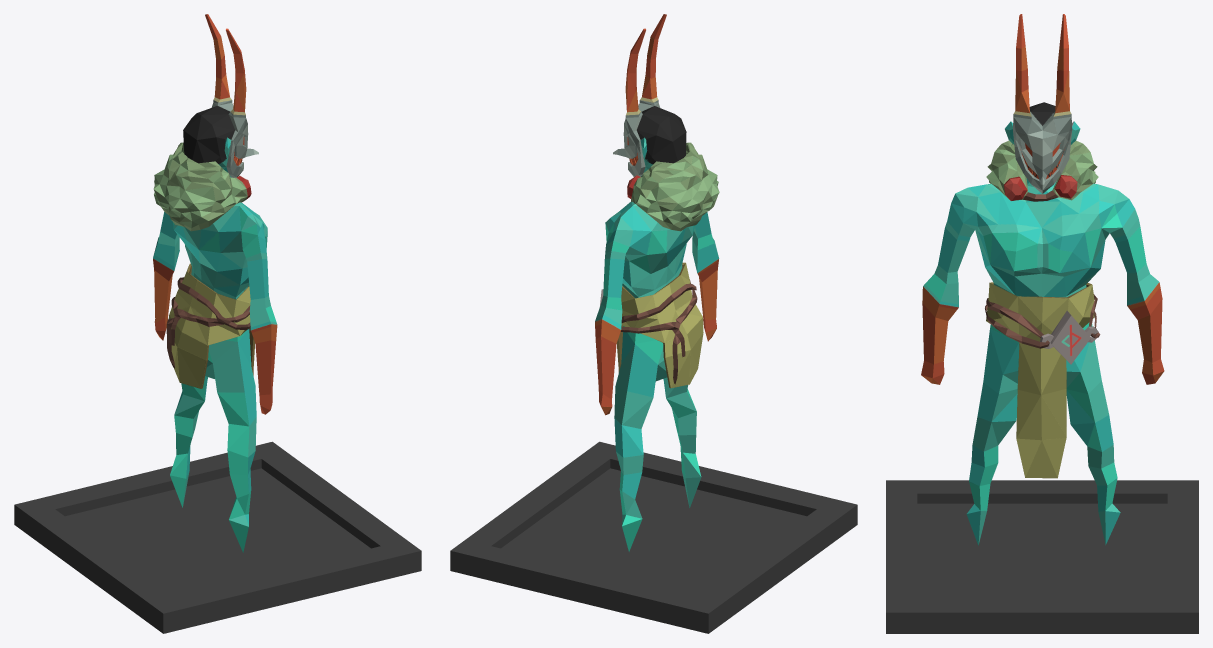
The model's file is 3D_FinalBoss_loki.fbx.
3 views of the same model, side by side, from view 1: azimuth 30°, elevation 25°; view 2: azimuth 150°, elevation 25°; view 3: azimuth 270°, elevation 25° (orthographic). The views are drawn at different scales.
Visible parts, largest first — view 1: SM_loki_01, SM_loki_body, SM_loki_fur, SM_loki_belt, SM_loki_rune; view 2: SM_loki_01, SM_loki_body, SM_loki_fur, SM_loki_belt, SM_loki_rune; view 3: SM_loki_01, SM_loki_body, SM_loki_belt, SM_loki_fur, SM_loki_rune.
Boxes of the visible parts, <box> form: SM_loki_01: <box>14,441,421,633</box>; SM_loki_body: <box>153,14,277,552</box>; SM_loki_fur: <box>153,142,251,231</box>; SM_loki_belt: <box>168,263,255,388</box>; SM_loki_rune: <box>166,277,250,368</box>; SM_loki_01: <box>450,441,857,633</box>; SM_loki_body: <box>595,14,719,551</box>; SM_loki_fur: <box>627,142,719,231</box>; SM_loki_belt: <box>616,262,703,388</box>; SM_loki_rune: <box>600,279,697,384</box>; SM_loki_01: <box>886,480,1198,633</box>; SM_loki_body: <box>921,14,1164,545</box>; SM_loki_belt: <box>986,282,1094,478</box>; SM_loki_fur: <box>986,140,1098,201</box>; SM_loki_rune: <box>985,294,1100,364</box>.
Size of the model in its own units: 200 by 390 by 200.
Materials: 2 (2 with a texture image).
